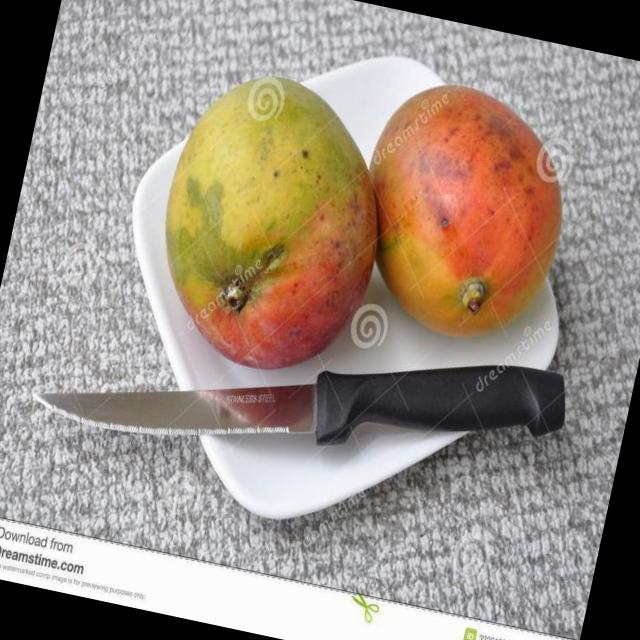Mango: (136, 57, 408, 388), (338, 68, 586, 354)
